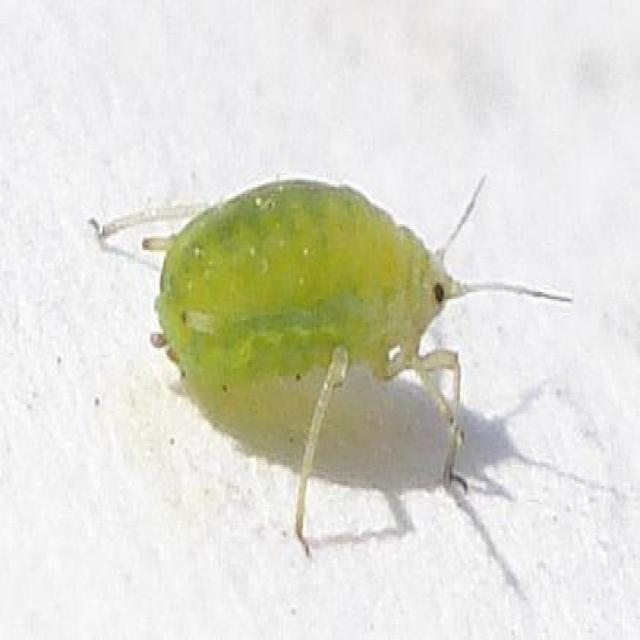aphid: (73, 72, 567, 570)
